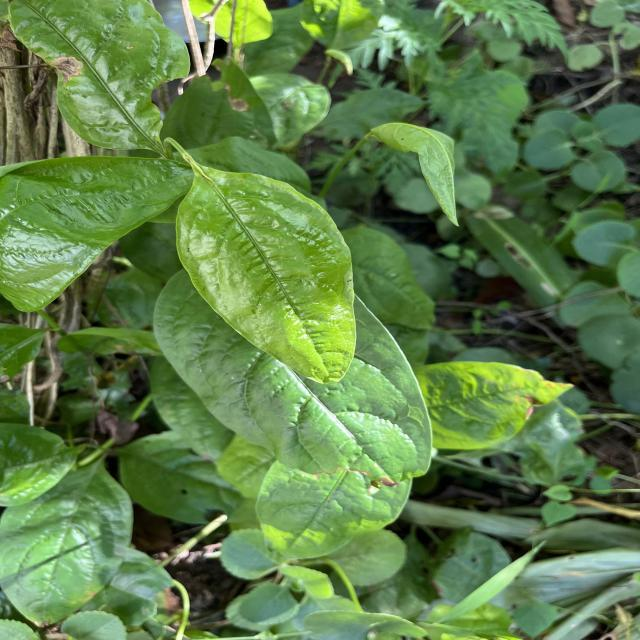Plumbago indica: (172, 164, 359, 392), (0, 144, 182, 312), (0, 456, 143, 625), (252, 443, 400, 564), (415, 360, 581, 456)
